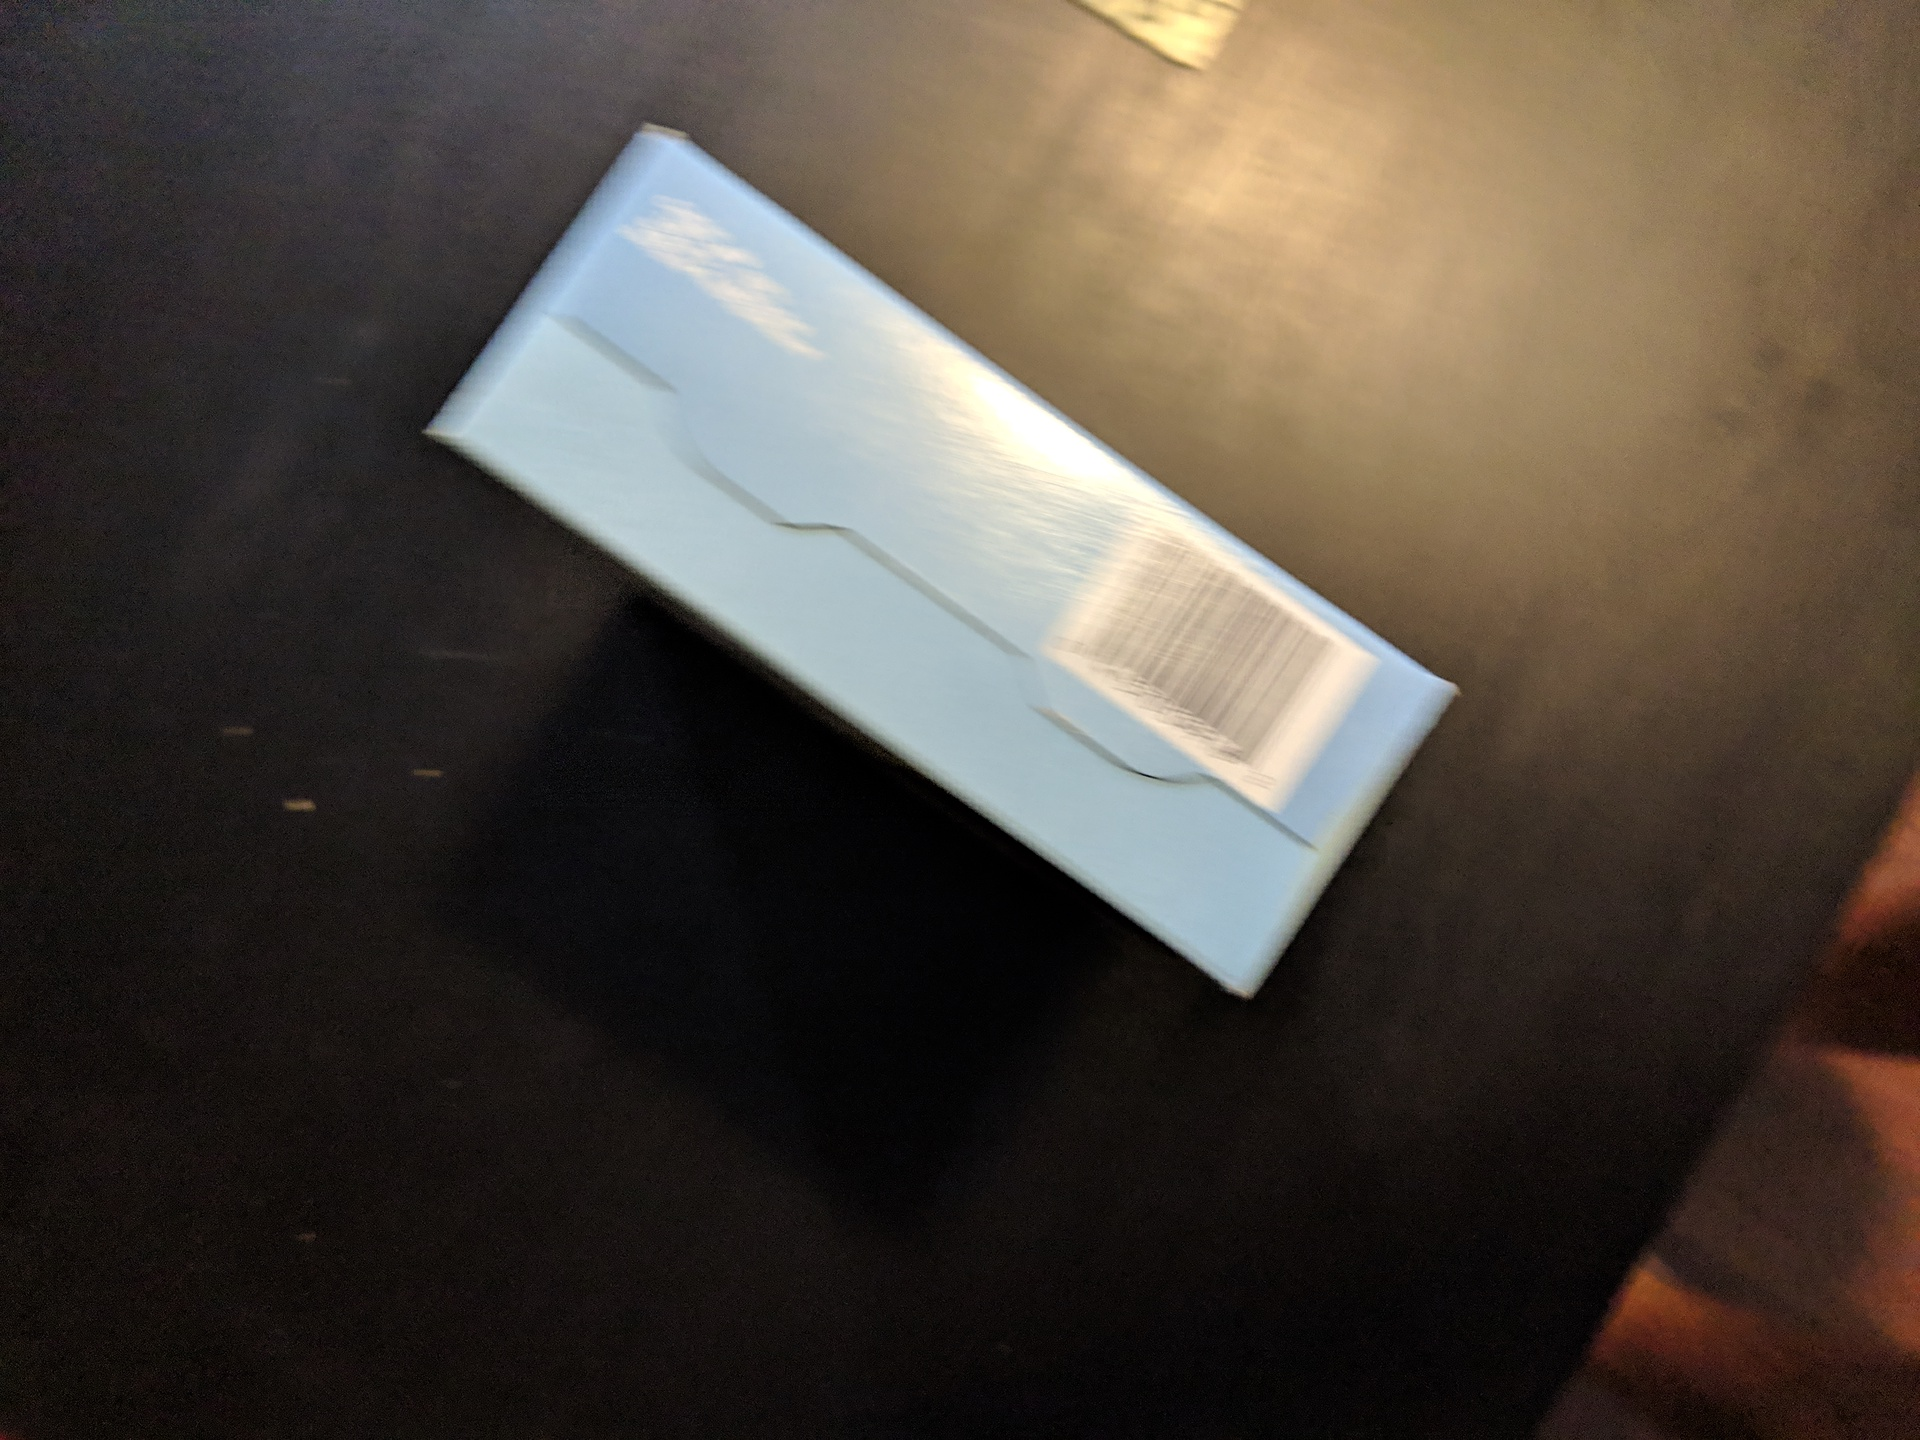blue_diamond_nut_thins_almond_seasalt: (552, 234, 1347, 914)
